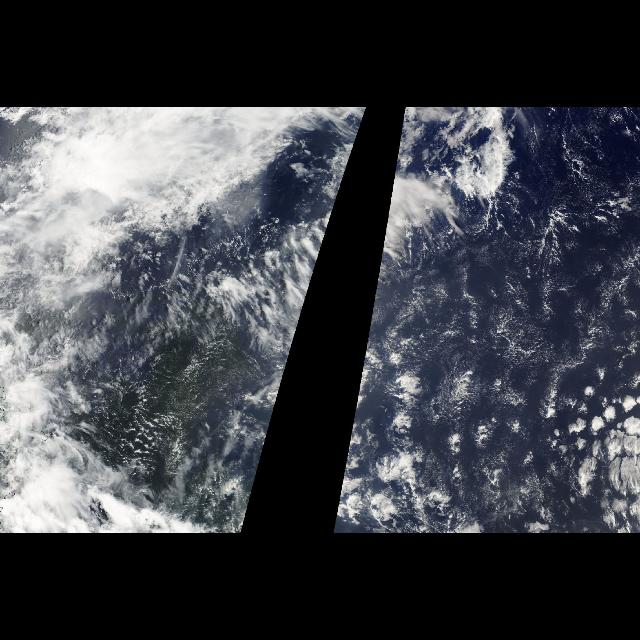Fish: (172, 126, 362, 344), (366, 126, 532, 344)
Flower: (332, 220, 640, 532), (301, 220, 331, 316)
Gravel: (419, 222, 603, 386)
Sugar: (92, 186, 288, 468), (473, 156, 637, 384)
